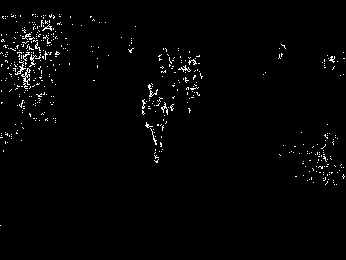person: (140, 82, 168, 165)
